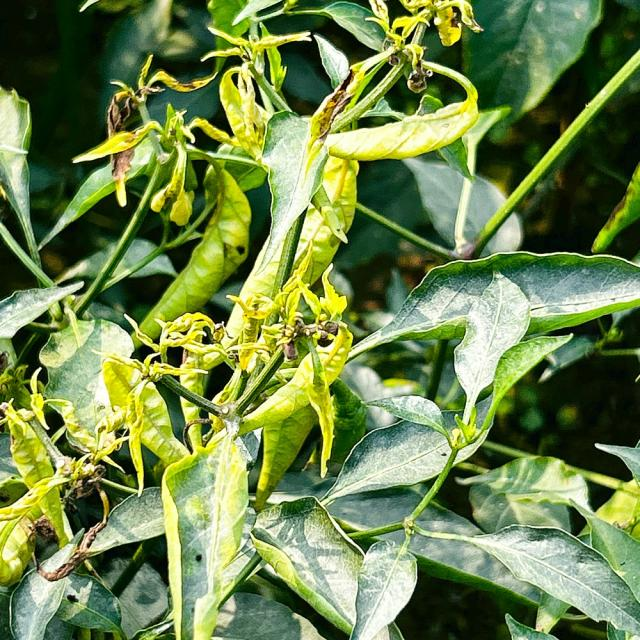Chilli_Leaf_Curl: (1, 1, 638, 638), (344, 249, 638, 427), (159, 426, 254, 638), (451, 268, 532, 428)
